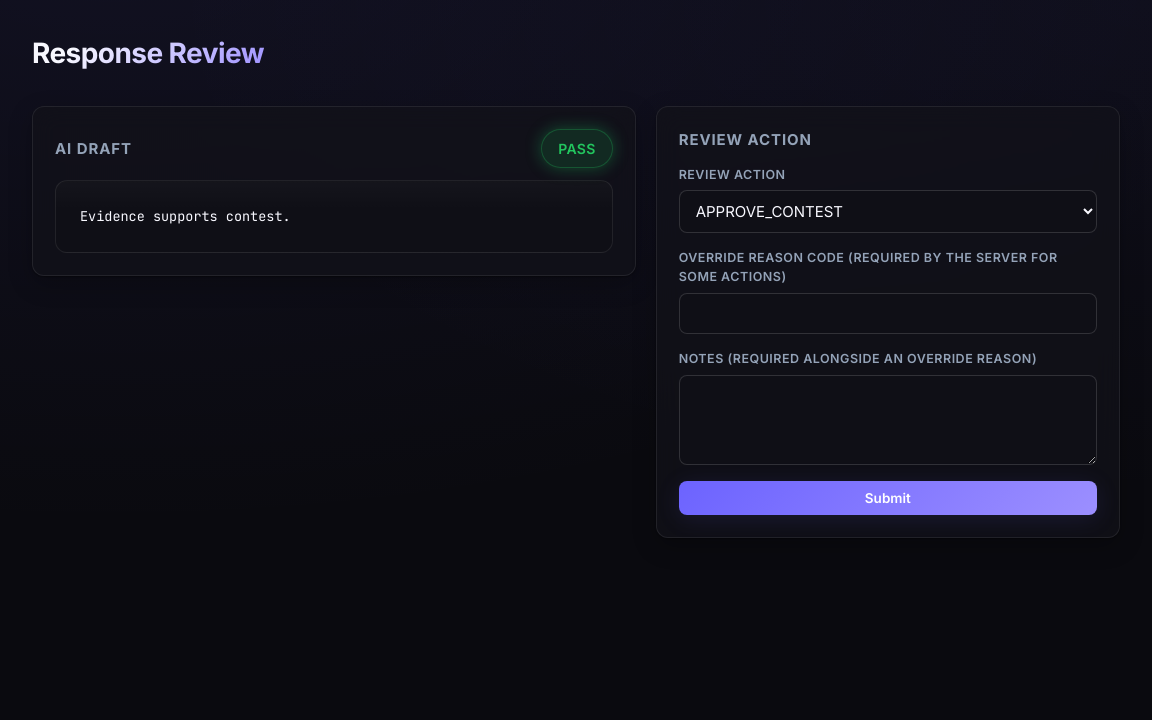
ResponseReview › shows an 'awaiting second approver' state, not a final state, on AWAITING_SECOND_APPROVAL
Expected: the text "Evidence supports contest." is shown, [55, 180, 613, 253]
Click the button "Submit". click: (888, 498)
box: [679, 480, 1097, 514]
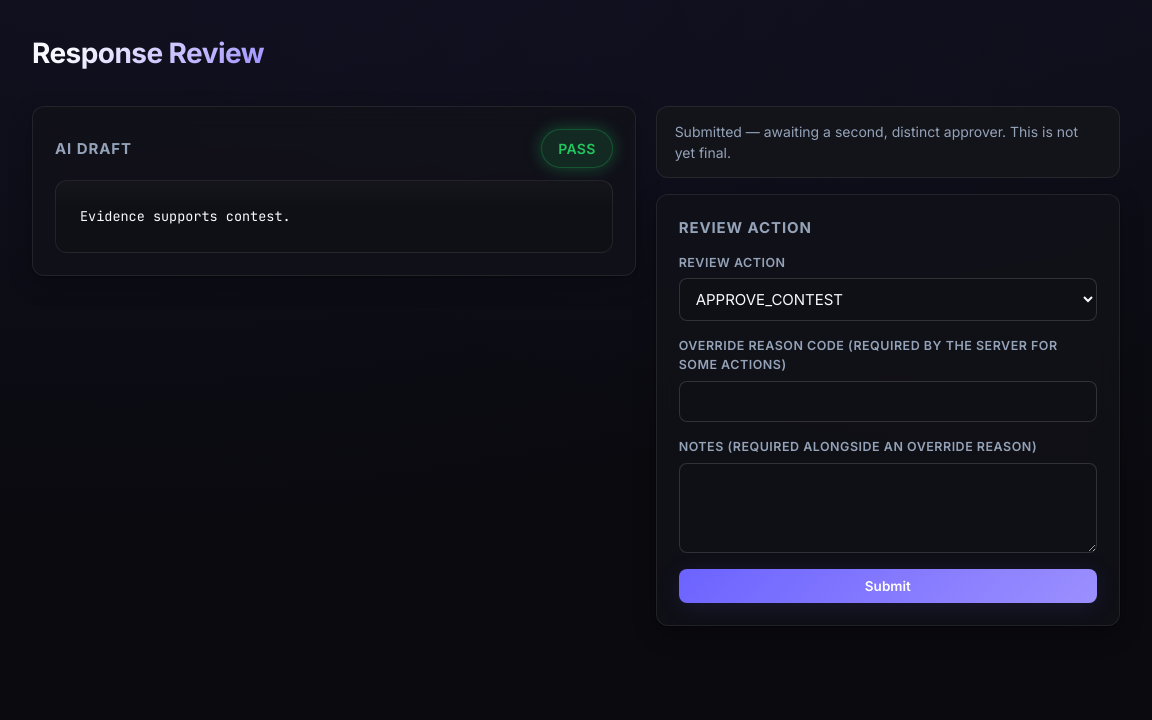
Result: the text "Submitted — awaiting a second, distinct approver. This is not yet final." is shown at [656, 106, 1120, 178]
